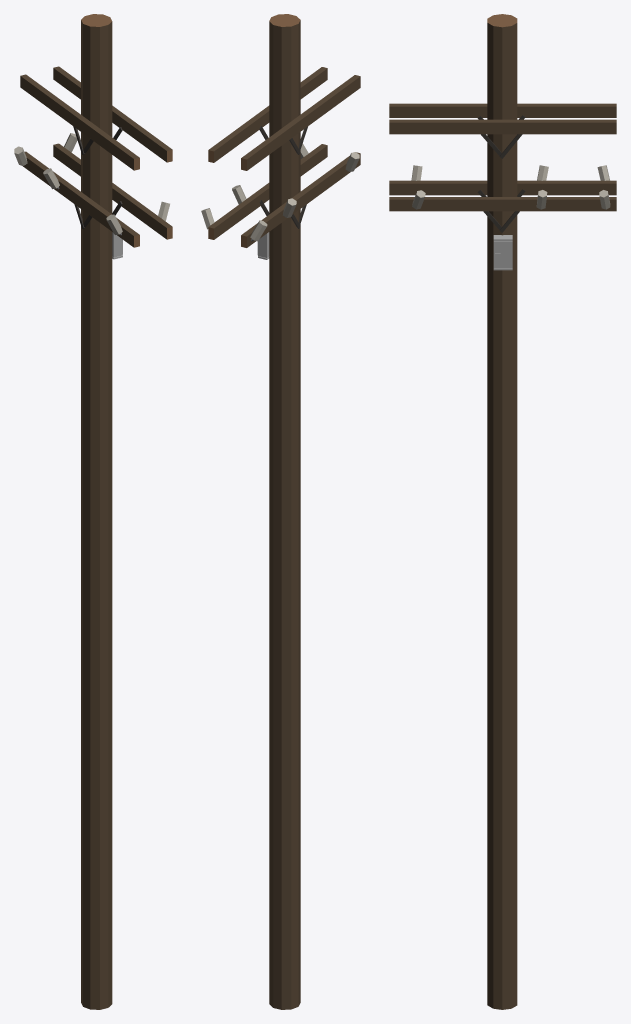
Rendered from SM_utility_pole_1.gltf.
3 renders of one model, left to right at view 1: azimuth 30°, elevation 25°; view 2: azimuth 150°, elevation 25°; view 3: azimuth 270°, elevation 25°, orthographic.
Parts seen in each view (by area): view 1: SM_utility_pole_1; view 2: SM_utility_pole_1; view 3: SM_utility_pole_1.
Boxes of the visible parts, box(x1,y1,x2,y2) form: SM_utility_pole_1: box(14, 14, 172, 1009); SM_utility_pole_1: box(201, 14, 360, 1009); SM_utility_pole_1: box(389, 14, 616, 1009).
Bounding box in the file's own units: 0.656 × 9.48 × 1.99.
Materials: 1 (1 with a texture image).
